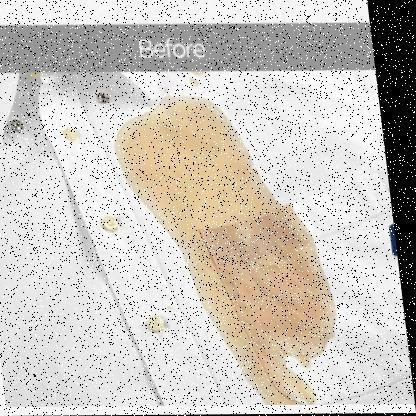coffee: (131, 112, 248, 217), (228, 247, 314, 348)
